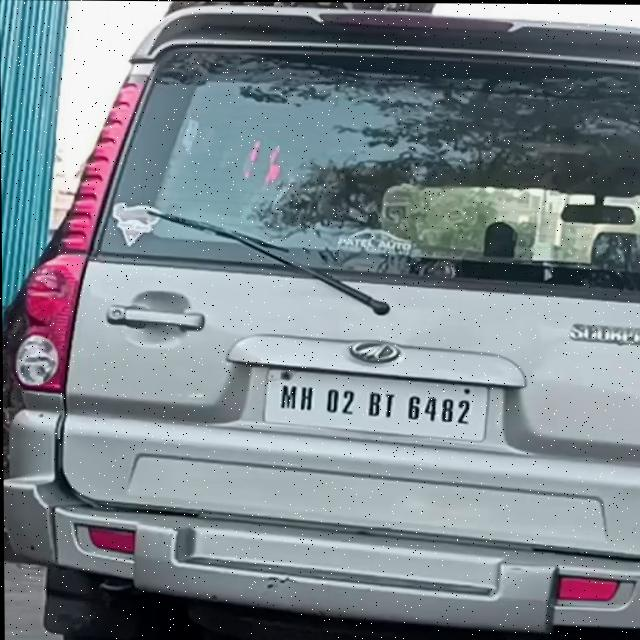plate: (260, 367, 489, 442)
